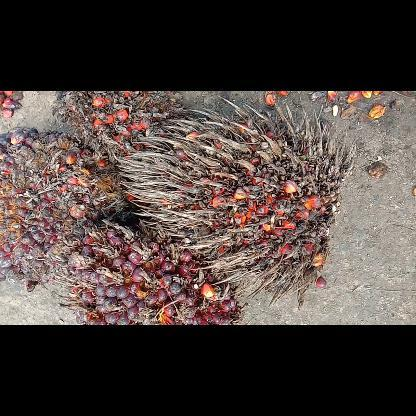TBS masak: (0, 127, 124, 290), (54, 220, 240, 324)
Terlalu masak: (118, 96, 352, 306), (53, 91, 183, 163)
